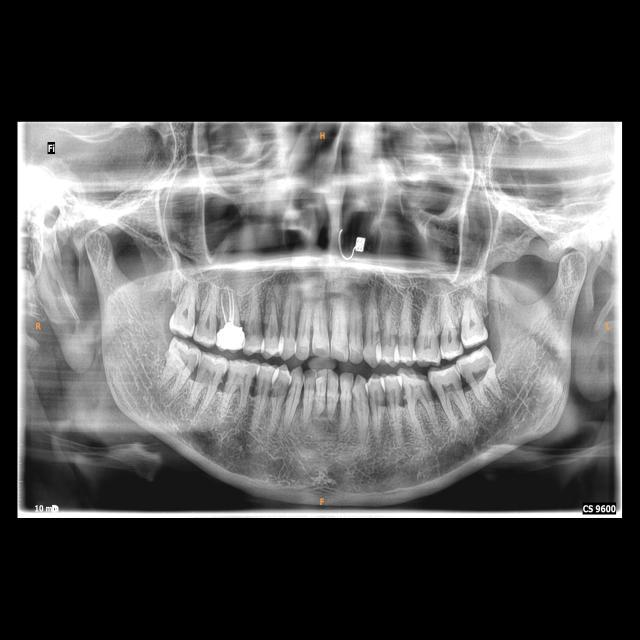dentin-curugu: (404, 366, 429, 383), (395, 389, 404, 408)
kanal-tedavisi: (220, 284, 237, 322)
kaplama: (215, 320, 246, 350)
